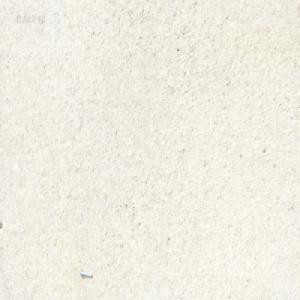Nail: (78, 269, 93, 278)
